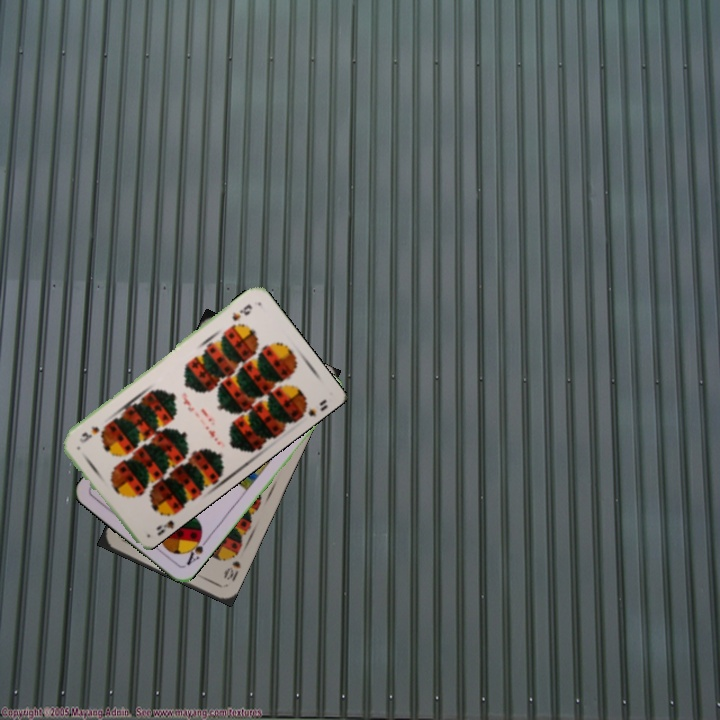S10: (219, 557, 243, 583)
S9: (152, 508, 179, 533), (228, 300, 255, 323)
SA: (182, 530, 211, 568)
